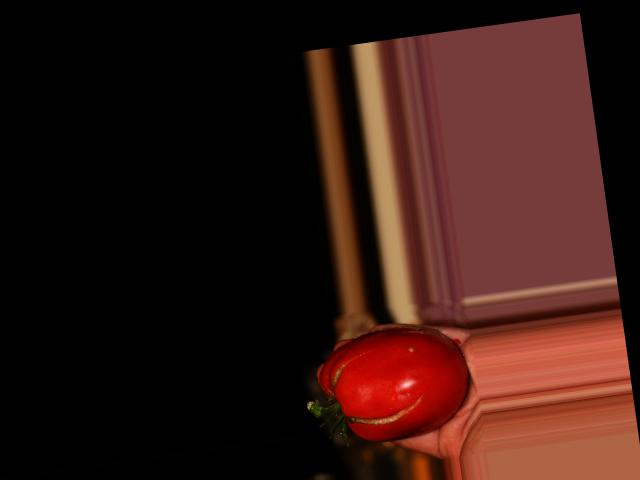tomato: (312, 318, 475, 447)
